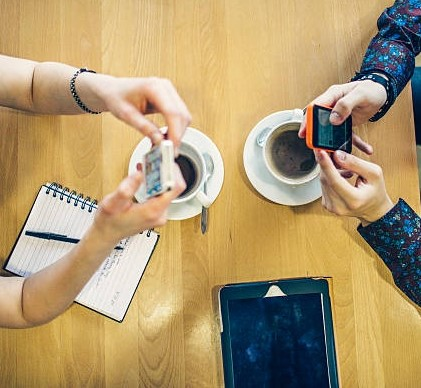phone: (130, 140, 176, 198), (308, 101, 354, 152)
